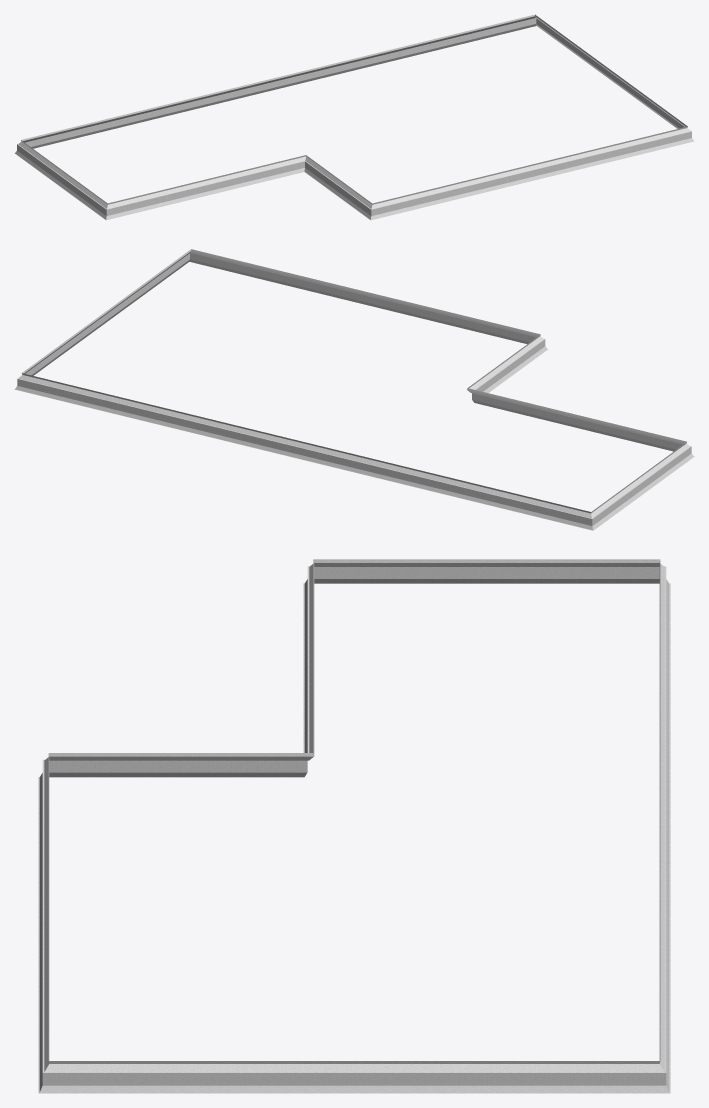
The model's file is shigaoxian05.fbx.
3 views of the same model, one above another, from view 1: azimuth 30°, elevation 25°; view 2: azimuth 150°, elevation 25°; view 3: azimuth 270°, elevation 25° (orthographic). The views are drawn at different scales.
Visible parts, largest first — view 1: shigaoxian05; view 2: shigaoxian05; view 3: shigaoxian05.
Boxes of the visible parts, <box> form: shigaoxian05: <box>14,14,694,220</box>; shigaoxian05: <box>14,249,694,530</box>; shigaoxian05: <box>38,559,670,1093</box>.
Bounding box in the file's own units: 606 × 15.59 × 317.
